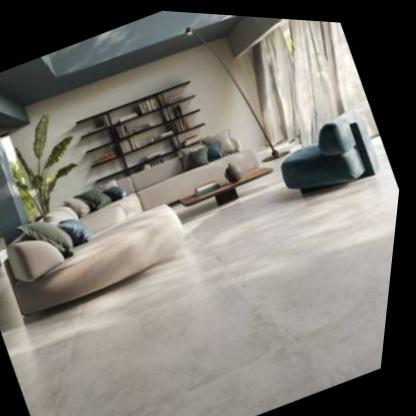Ceramic floor: (0, 132, 403, 416)
